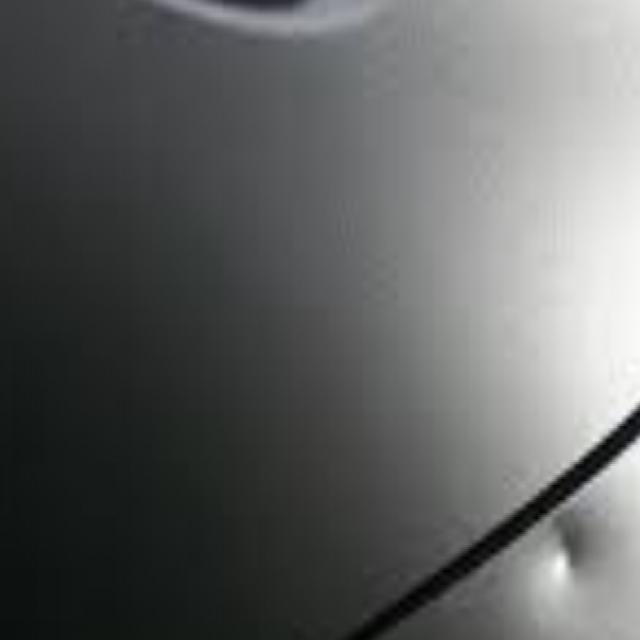dents: (549, 510, 607, 599)
